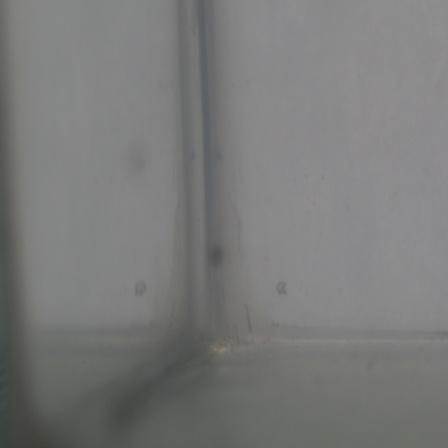Jentik-Nyamuk: (270, 277, 294, 297)
